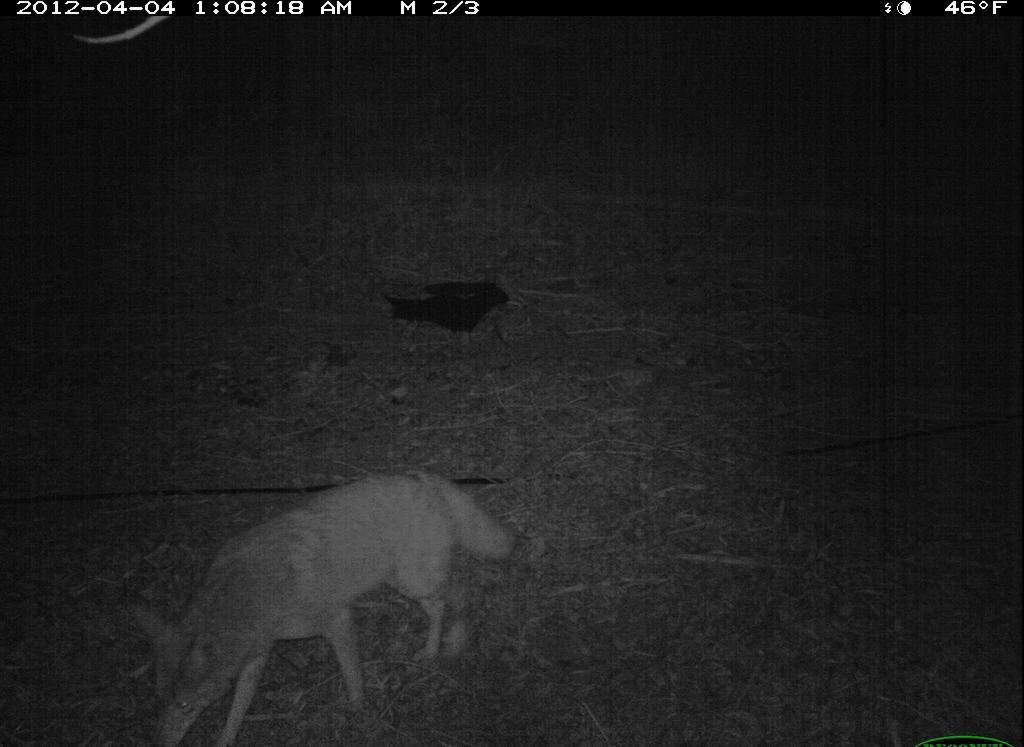coyote: (128, 463, 519, 747)
